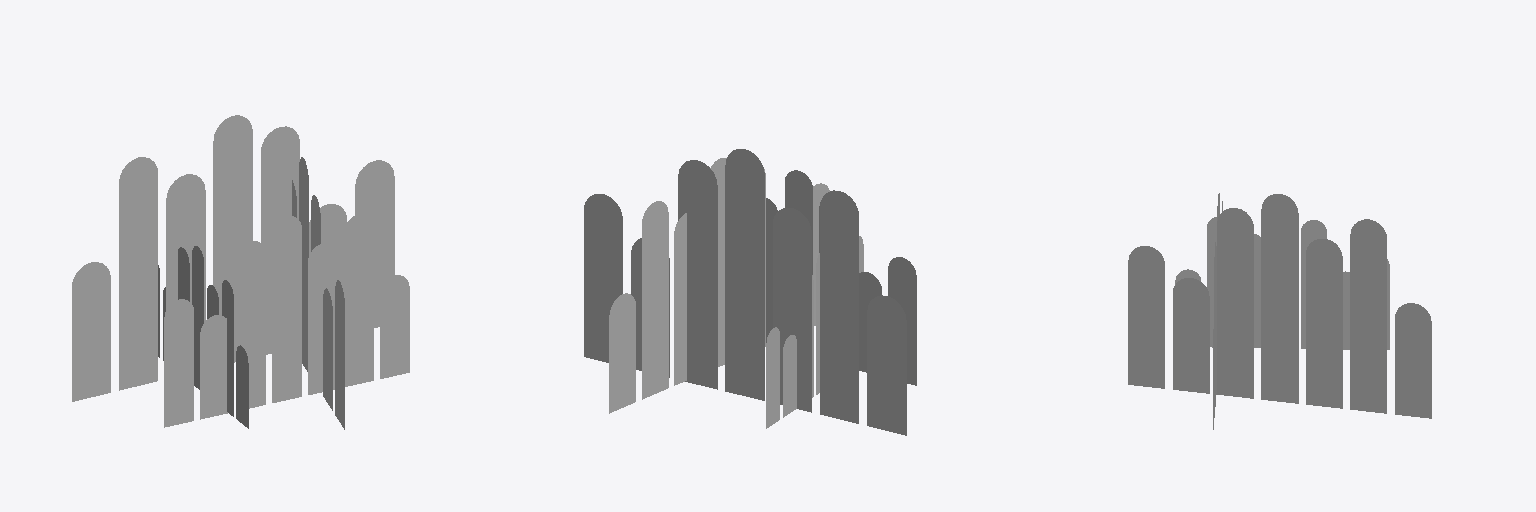
Rendered from grass.obj.
3 renders of one model, left to right at view 1: azimuth 30°, elevation 25°; view 2: azimuth 150°, elevation 25°; view 3: azimuth 270°, elevation 25°, orthographic.
Parts seen in each view (by area): view 1: Plane.001, Plane.004, Plane.003, Plane.002; view 2: Plane.001, Plane.003, Plane.004, Plane.002; view 3: Plane.003, Plane.002, Plane.004.
Boxes of the visible parts, <box> form: Plane.001: <box>72,115,394,401</box>; Plane.004: <box>164,214,409,427</box>; Plane.003: <box>292,157,344,429</box>; Plane.002: <box>158,246,248,428</box>; Plane.001: <box>584,149,906,435</box>; Plane.003: <box>609,158,829,413</box>; Plane.004: <box>766,170,916,385</box>; Plane.002: <box>766,236,863,428</box>; Plane.003: <box>1128,194,1431,418</box>; Plane.002: <box>1175,217,1389,349</box>; Plane.004: <box>1213,193,1222,429</box>.
Bounding box in the file's own units: 3.26 × 2.38 × 2.65.